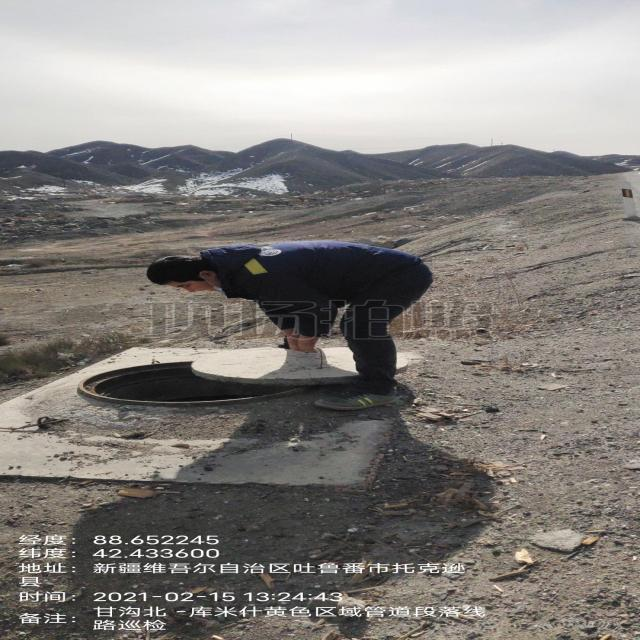manhole: (79, 350, 343, 408)
